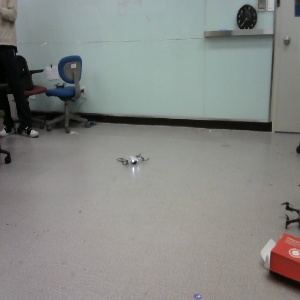Drone: (116, 153, 147, 172)
